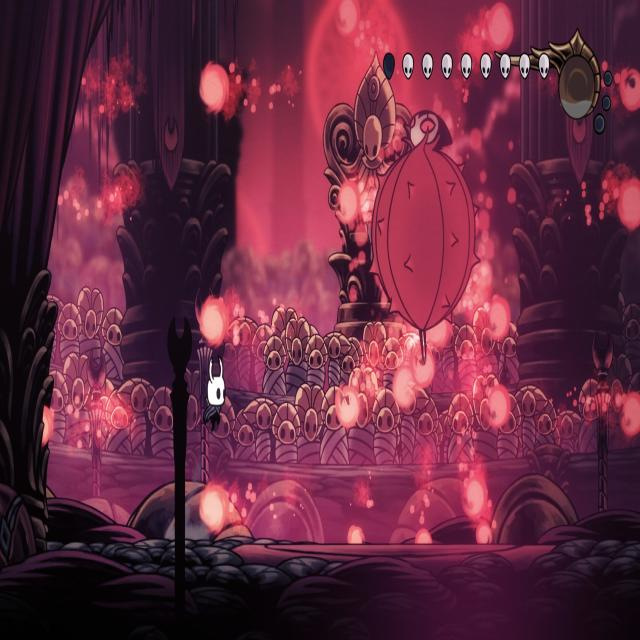Player: (202, 349, 228, 437)
Pufferfish: (366, 107, 484, 366)
Tiny Fireballs: (483, 4, 513, 54), (200, 65, 229, 116), (200, 298, 228, 347), (200, 485, 227, 534), (461, 471, 487, 519), (485, 385, 511, 431), (619, 177, 640, 231), (336, 385, 361, 428), (487, 295, 510, 341), (392, 367, 416, 410), (410, 349, 434, 388), (620, 391, 640, 437), (336, 1, 360, 38), (620, 68, 640, 112), (40, 401, 54, 448), (475, 520, 494, 548), (346, 523, 366, 545), (413, 524, 433, 544)
